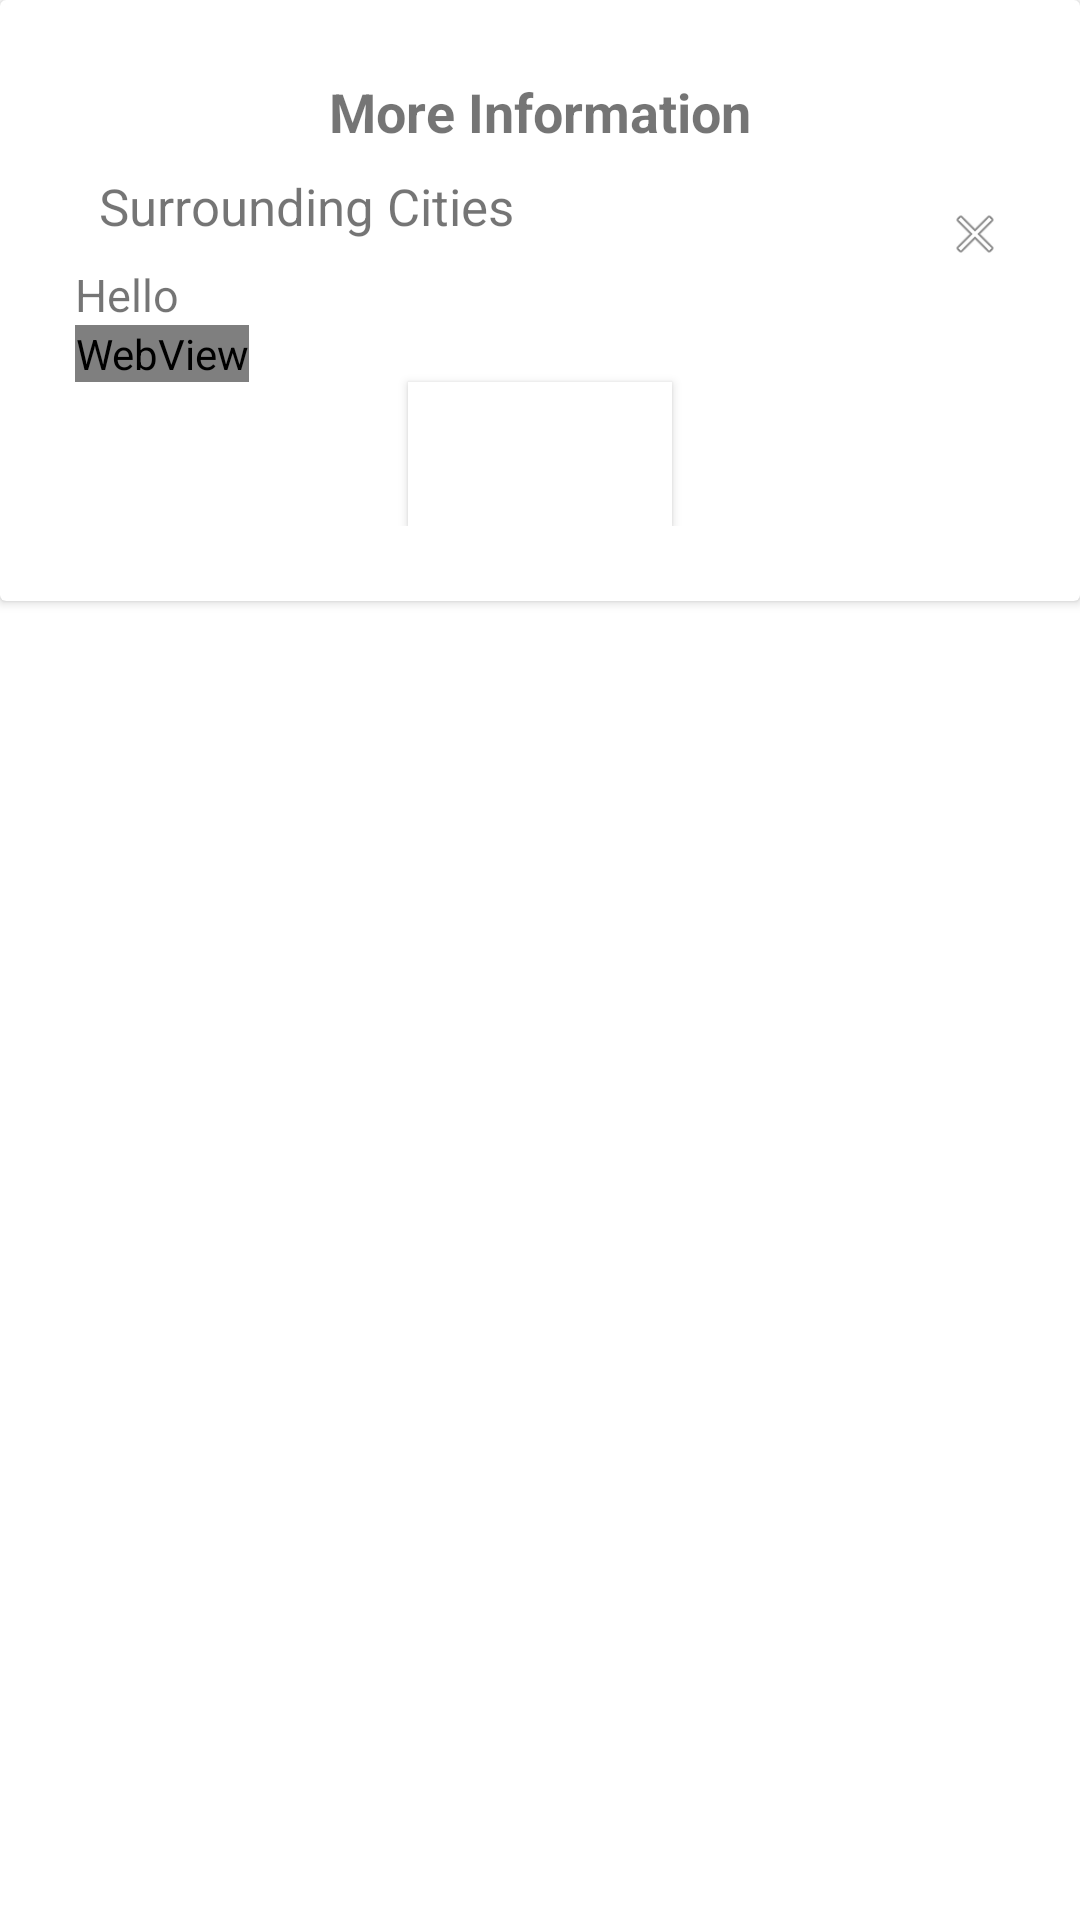

Named icons in this screenshot (1080 × 1920) and their centers, point (x, y):
close clear cancel: point (975, 234)
